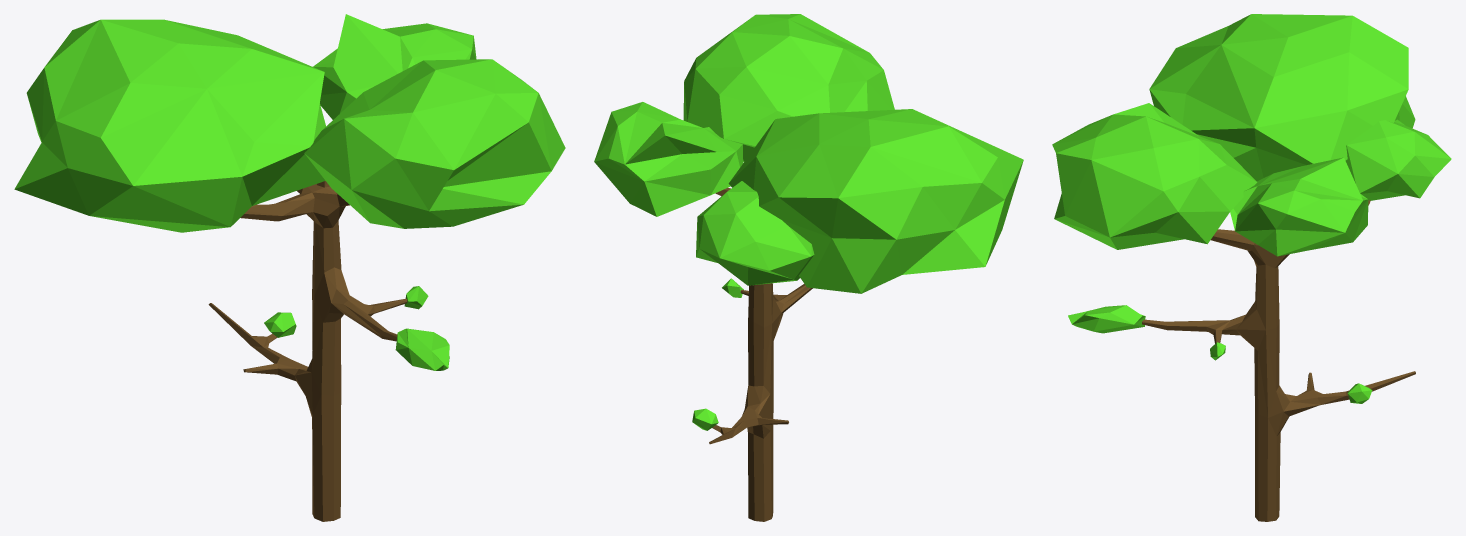
Rendered from tree2.fbx.
3 renders of one model, left to right at view 1: azimuth 30°, elevation 25°; view 2: azimuth 150°, elevation 25°; view 3: azimuth 270°, elevation 25°, orthographic. The views are drawn at different scales.
Parts seen in each view (by area): view 1: Tree2_LOD0; view 2: Tree2_LOD0; view 3: Tree2_LOD0.
Part boxes in pixels (x1,y1,x2,y2): Tree2_LOD0: (14, 14, 565, 521); Tree2_LOD0: (594, 14, 1023, 521); Tree2_LOD0: (1052, 14, 1451, 521).
Size of what is drawn, in the model's own units: 3920 by 4248 by 3589.
